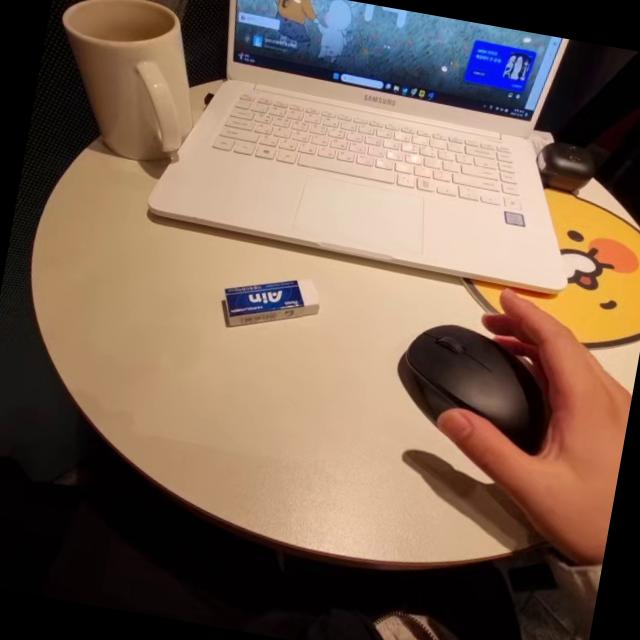eraser: (212, 255, 332, 354)
grab_mouse: (375, 270, 640, 533)
hand: (445, 286, 640, 541)
mouse: (376, 302, 576, 464)
